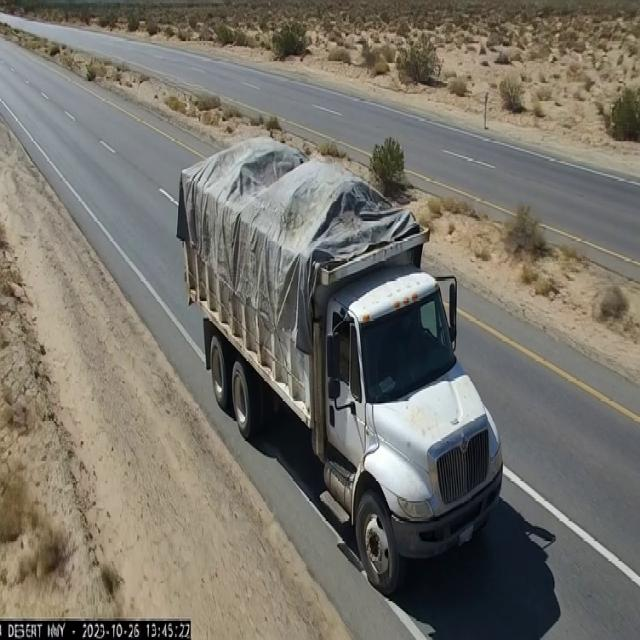Box: (180, 130, 431, 296)
Truck: (164, 120, 532, 576)
